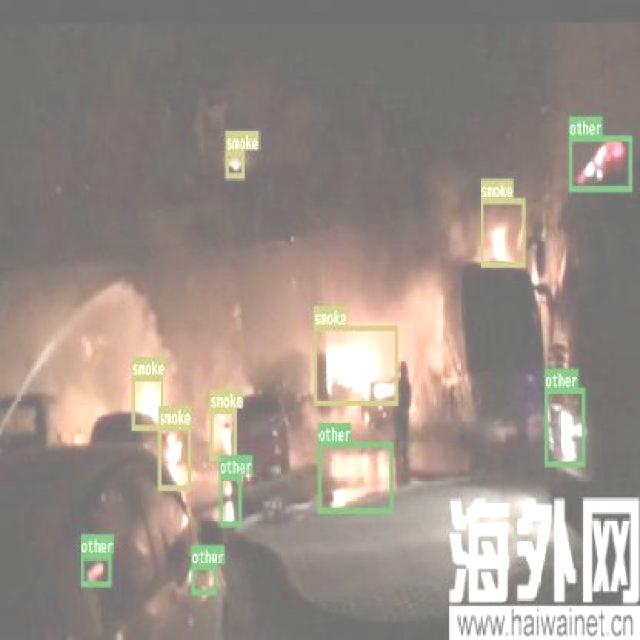smoke: (313, 326, 398, 404), (480, 197, 525, 266), (157, 424, 190, 488), (130, 376, 163, 430), (208, 406, 236, 459), (225, 149, 244, 177)
